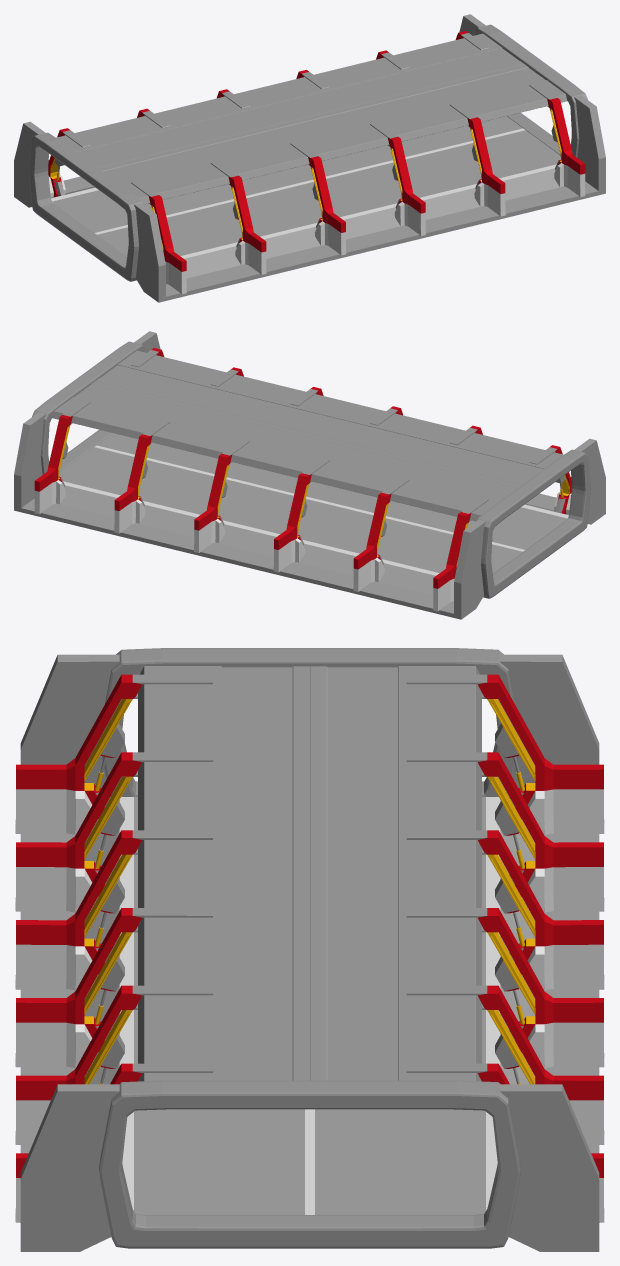
The model's file is hanger.fbx.
The picture shows the model from 3 angles, top to bottom: view 1: azimuth 30°, elevation 25°; view 2: azimuth 150°, elevation 25°; view 3: azimuth 270°, elevation 25°; orthographic projection. The views are drawn at different scales.
Visible parts, largest first — view 1: ground, roof, pillars, air_gate; view 2: ground, roof, pillars, air_gate; view 3: roof, ground, pillars, air_gate.
Part boxes in pixels (x1,y1,x2,y2): ground: [14, 14, 605, 302]; roof: [56, 33, 567, 204]; pillars: [48, 31, 585, 294]; air_gate: [29, 24, 587, 281]; ground: [14, 331, 605, 619]; roof: [52, 350, 563, 521]; pillars: [34, 348, 571, 611]; air_gate: [32, 341, 590, 598]; roof: [138, 666, 481, 1081]; ground: [20, 654, 599, 1251]; pillars: [15, 674, 604, 1222]; air_gate: [99, 648, 520, 1248].
Size of the model in its own units: 22965 by 3908 by 12796.
